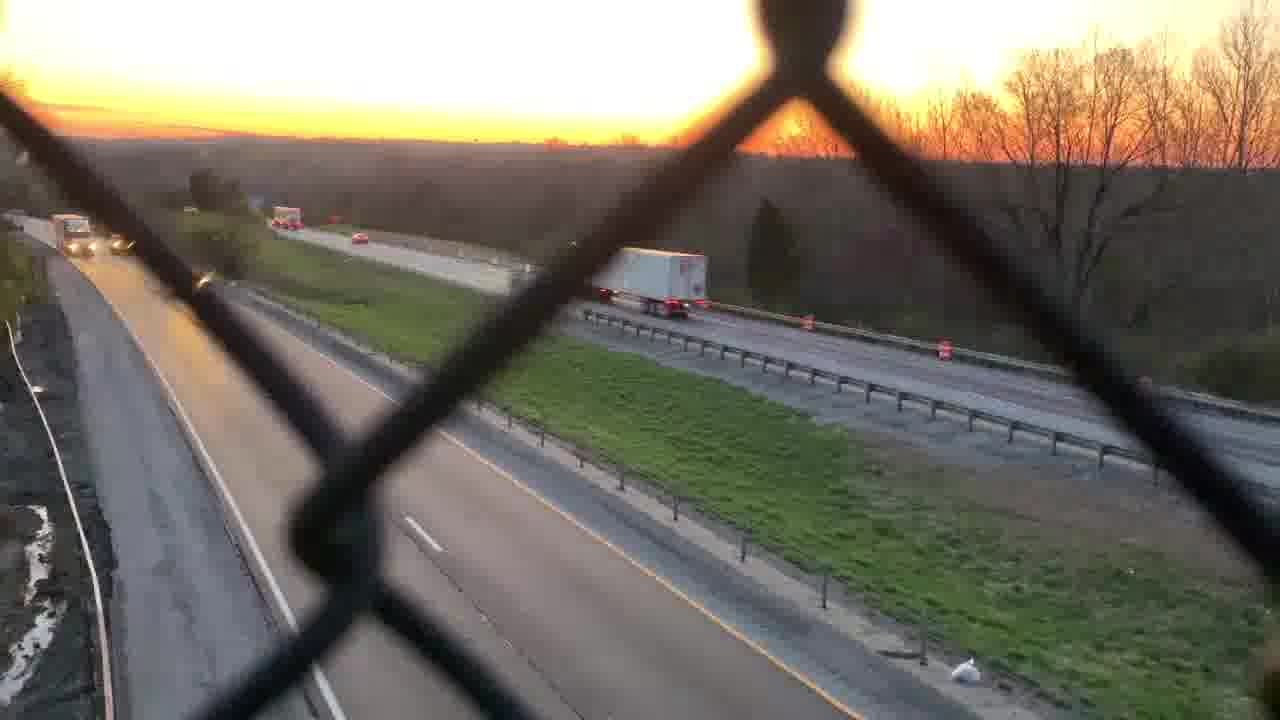heavyTruck: (584, 239, 712, 319), (52, 213, 94, 260), (266, 204, 306, 230)
smallCar: (345, 231, 374, 245)
